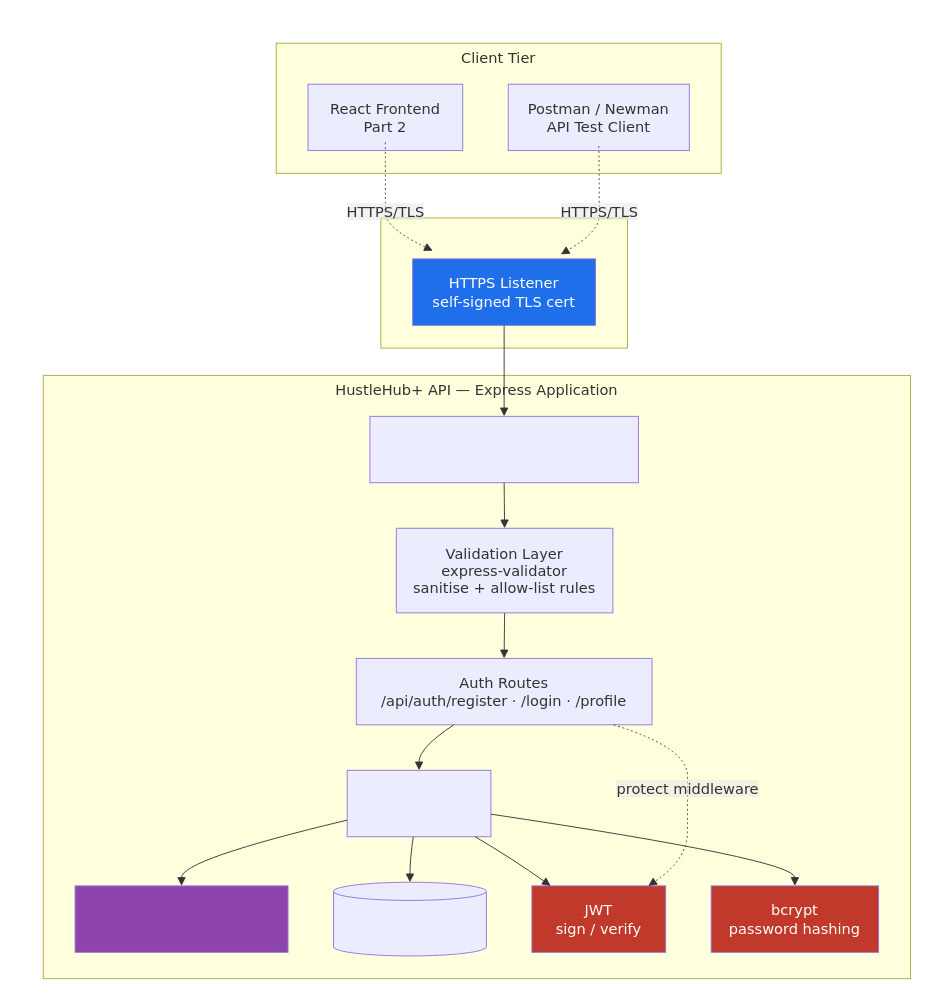
This 926x995 diagram has some shape labels left out. Each missing label, with the box of its shape:
Controllers business logic: (346, 769, 491, 837)
File-based User Store users.json: (333, 881, 486, 956)
Global Error Handler no stack traces to client: (74, 885, 288, 952)
Security Middleware Helmet · CORS · JSON body-limit: (369, 415, 638, 483)
Trust Boundary: Public Internet: (380, 217, 627, 348)
